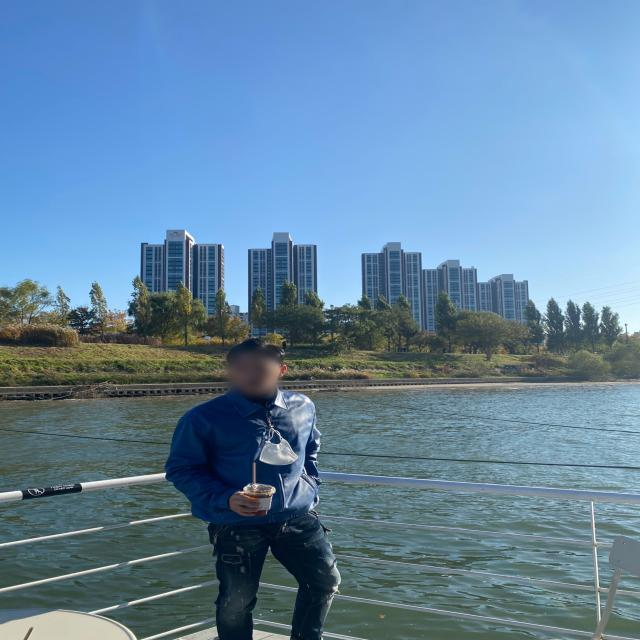denimpants: (207, 508, 341, 636)
jacket: (168, 388, 326, 524)
